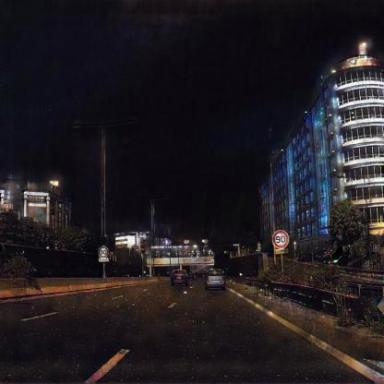Speed_limit_90: (273, 231, 290, 247)
